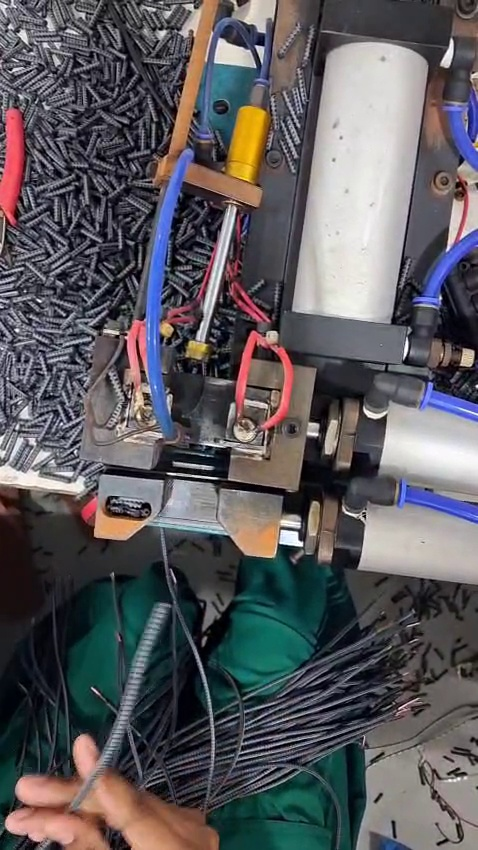intact_wire: (130, 586, 183, 679)
machine: (76, 317, 320, 527)
